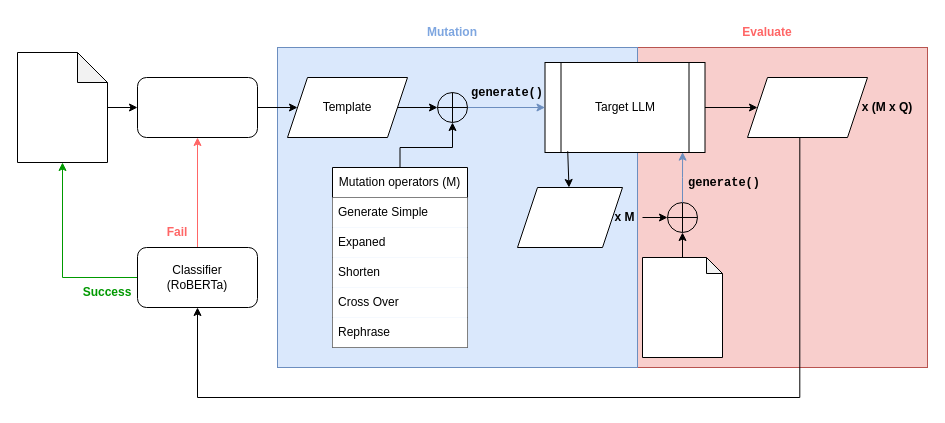
Some shapes in this 945 by 423 pixel diagram are drawn without their labels. Each missing label, with the centre of its shape:
"Harmful Questions (Q)" goes at [682,307].
"jailbreak templates (77)" goes at [62,107].
"Mutated Templates" goes at [569,217].
"Responses" goes at [807,107].
"Seed Selection (Round robin or Monte Carlo)" goes at [197,107].
